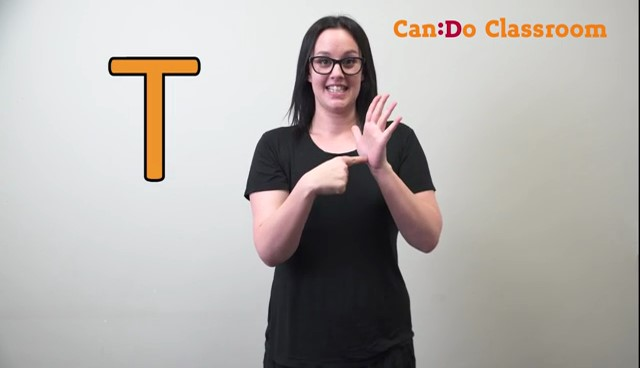T: (293, 86, 410, 199)
